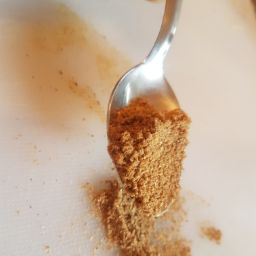Corriander powder: (102, 91, 210, 217), (81, 172, 233, 256)
